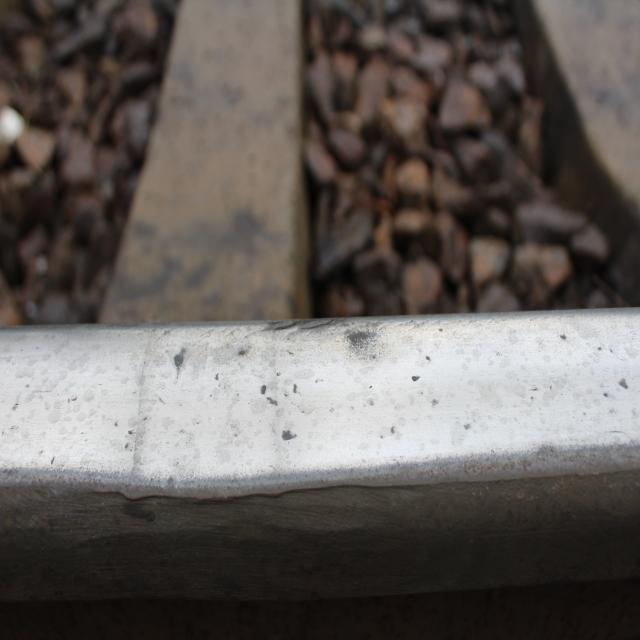squats_high: (79, 464, 640, 504), (343, 327, 383, 368), (258, 380, 300, 408), (602, 371, 628, 407), (413, 352, 433, 386), (171, 347, 189, 375), (279, 424, 297, 446)
